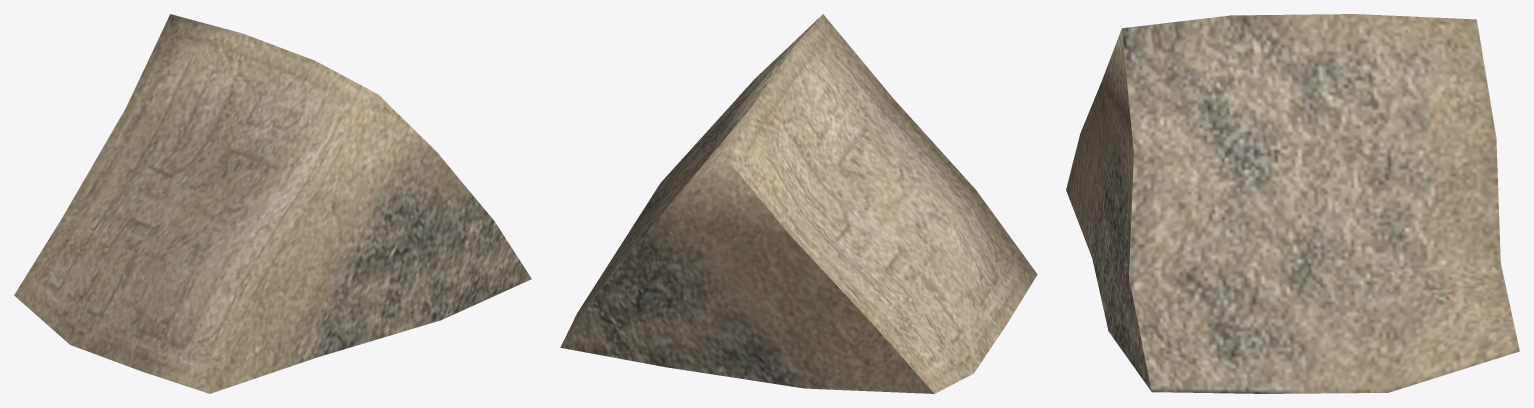
Rendered from desert-bigstone02.glb.
3 views of the same model, side by side, from view 1: azimuth 30°, elevation 25°; view 2: azimuth 150°, elevation 25°; view 3: azimuth 270°, elevation 25° (orthographic). The views are drawn at different scales.
Visible parts, largest first — view 1: desert-bigstone; view 2: desert-bigstone; view 3: desert-bigstone.
Part boxes in pixels (box(x1,y1,x2,y2)): desert-bigstone: box(14, 14, 531, 393); desert-bigstone: box(560, 14, 1037, 393); desert-bigstone: box(1066, 14, 1519, 393).
Bounding box in the file's own units: 4.5 × 2.7 × 3.79.
1 material, 1 textured.
